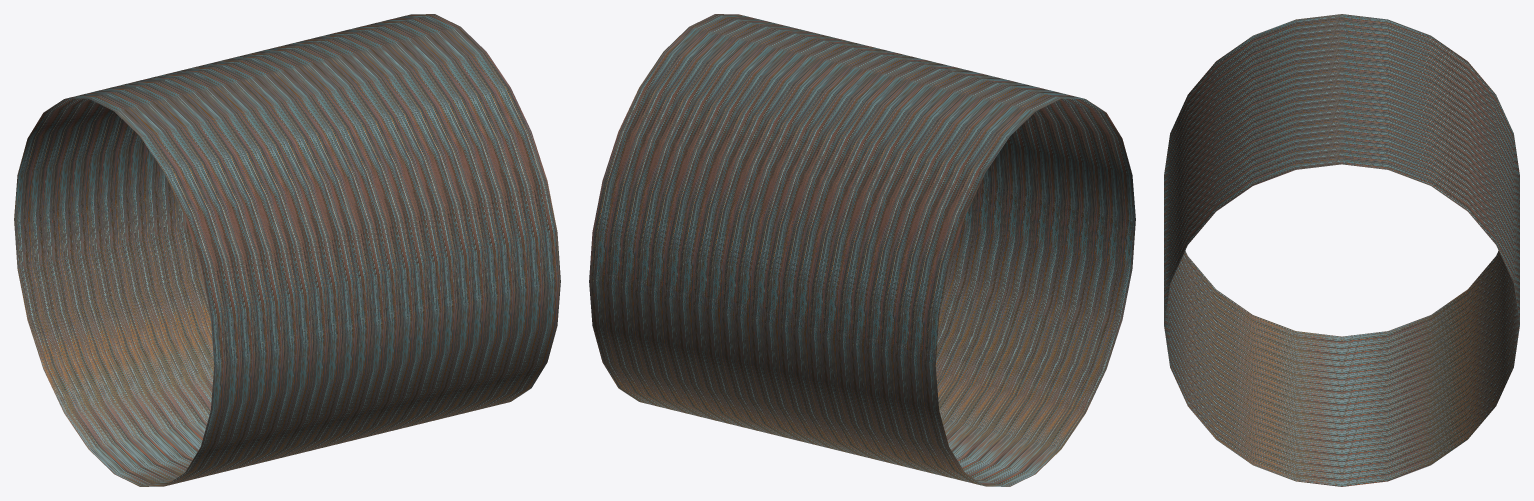
Rendered from pipe12.obj.
3 views of the same model, side by side, from view 1: azimuth 30°, elevation 25°; view 2: azimuth 150°, elevation 25°; view 3: azimuth 270°, elevation 25° (orthographic). The views are drawn at different scales.
Size of the model in its own units: 2 by 2 by 2.
1 material, 1 textured.
